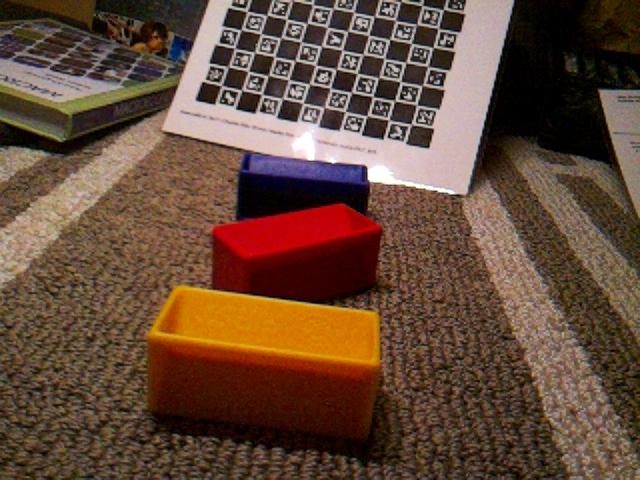blue: (234, 151, 372, 221)
red: (210, 202, 384, 301)
yellow: (145, 283, 383, 443)
